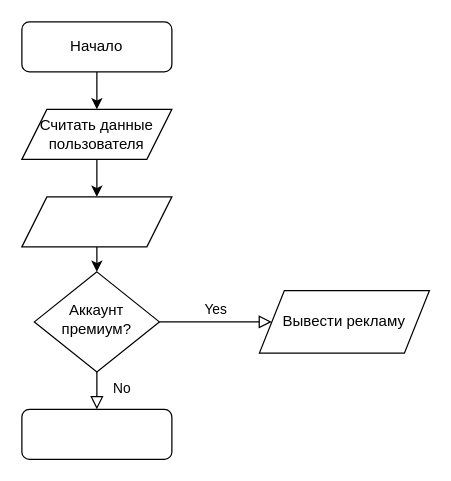
Image size: 451x481. Some labels were removed from this diagram. Here are the shapes that lost their labels. From the top down, the centre of each, then its label:
At [96,221]: "Вывести приветствие".
At [96,433]: "Конец".
